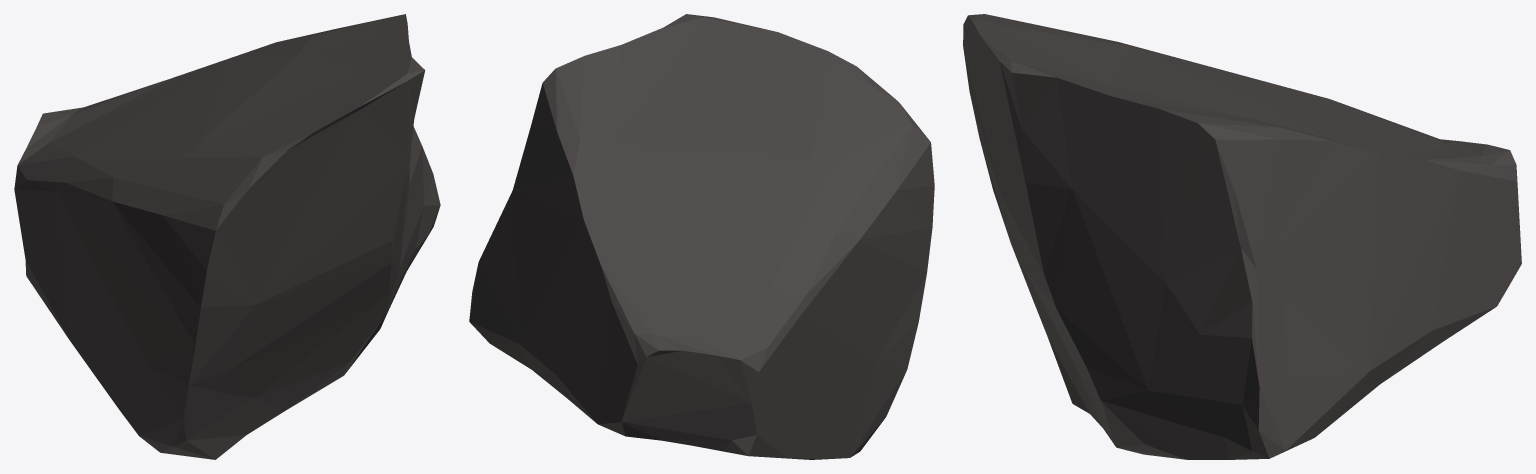
The model's file is Stone_02.obj.
3 views of the same model, side by side, from view 1: azimuth 30°, elevation 25°; view 2: azimuth 150°, elevation 25°; view 3: azimuth 270°, elevation 25° (orthographic). The views are drawn at different scales.
Visible parts, largest first — view 1: Stone_02_Sphere.002; view 2: Stone_02_Sphere.002; view 3: Stone_02_Sphere.002.
Boxes of the visible parts, x1=… form: Stone_02_Sphere.002: x1=14, y1=14, x2=440, y2=459; Stone_02_Sphere.002: x1=469, y1=14, x2=934, y2=459; Stone_02_Sphere.002: x1=963, y1=14, x2=1521, y2=459.
Size of the model in its own units: 1.29 by 1.24 by 1.42.
1 material, 1 textured.
